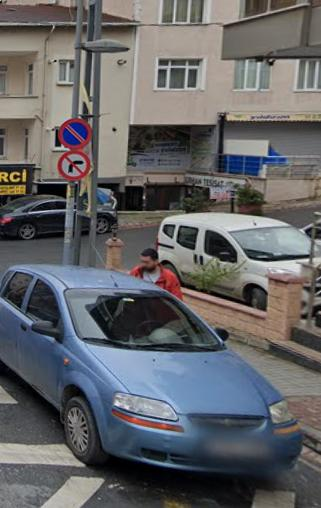nopark: (60, 117, 91, 147)
rightturnsareforbidden: (57, 151, 91, 180)
